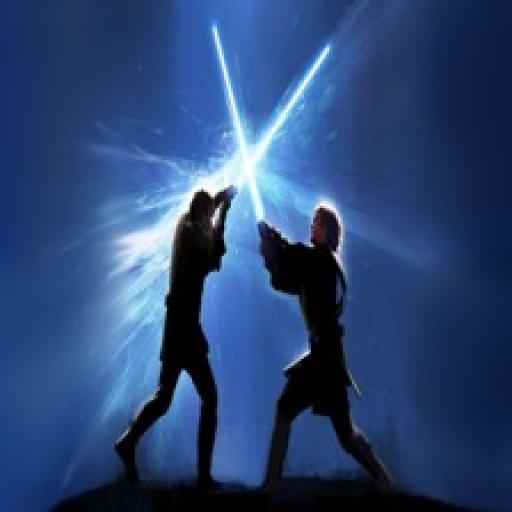human: (248, 199, 396, 496), (106, 184, 235, 501)
lightsaber: (219, 41, 335, 212), (212, 23, 271, 238)
